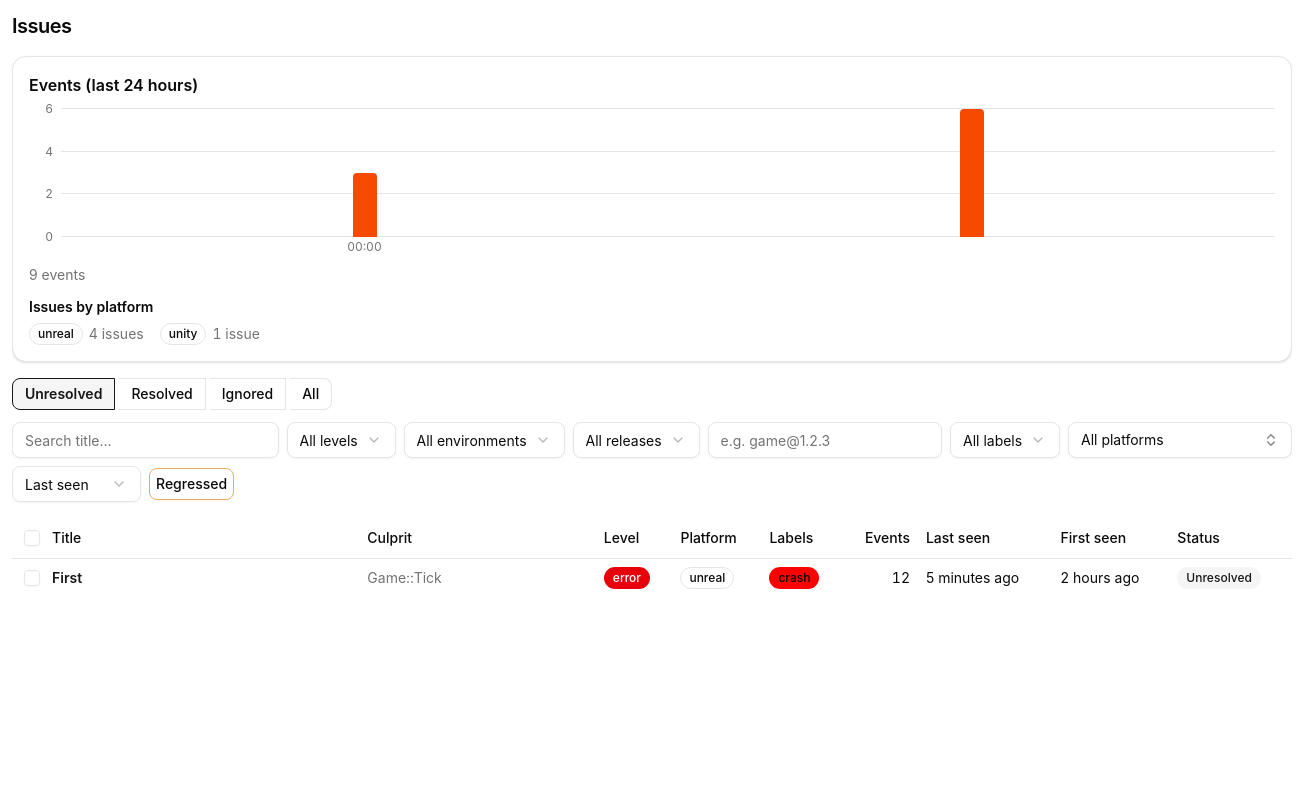
Test: IssuesPage › adds and removes labels through the bulk endpoint
The image size is (1304, 812).
Expected: the link "First" is shown, left=52, top=568, right=82, bottom=586
Click the checkbox named "Select issue 1": click(32, 578) left=24, top=570, right=40, bottom=586
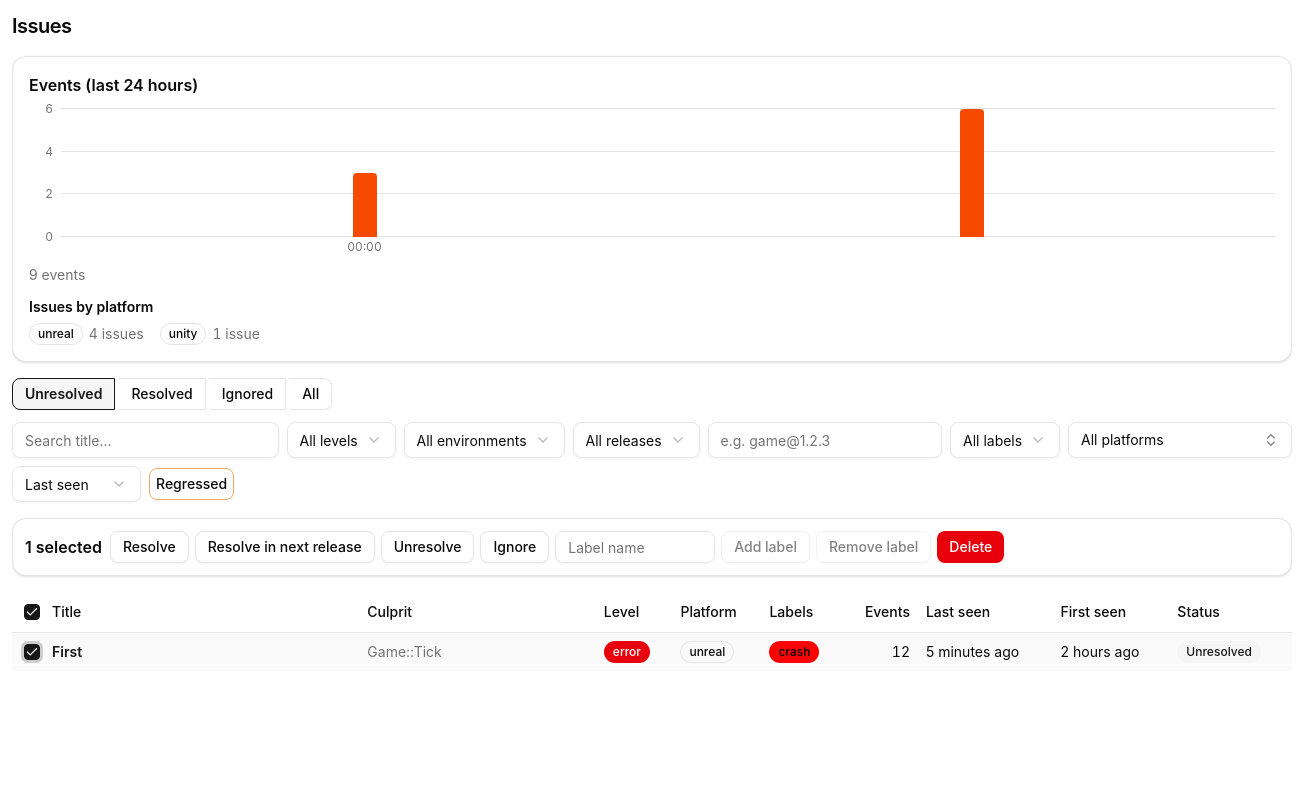
Expected: the button "Add label" is disabled, left=721, top=531, right=810, bottom=563
Expected: the button "Remove label" is disabled, left=816, top=531, right=931, bottom=563
In the field labelled "Label name": (635, 547) left=555, top=531, right=715, bottom=563, type "  crash  "
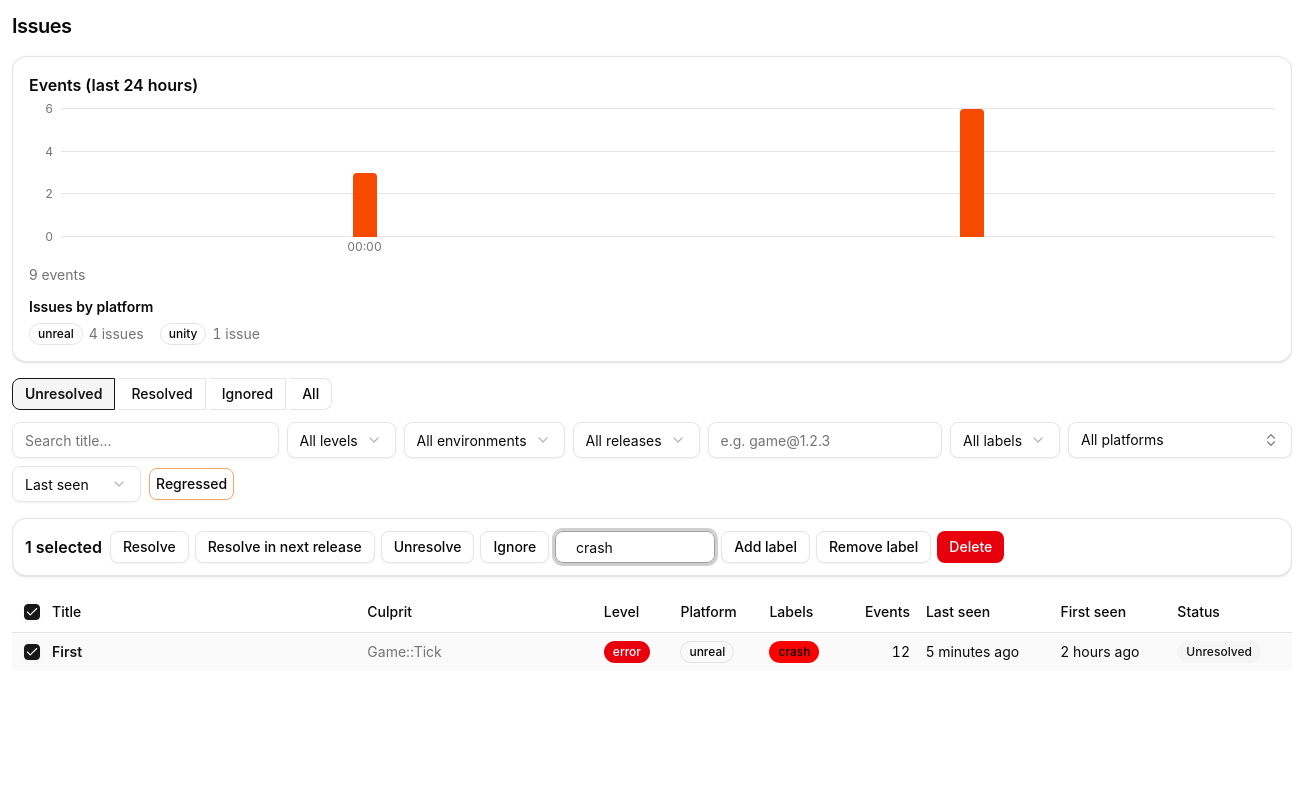
Expected: the button "Add label" is enabled
Click the button "Add label": click(766, 547) left=721, top=531, right=810, bottom=563
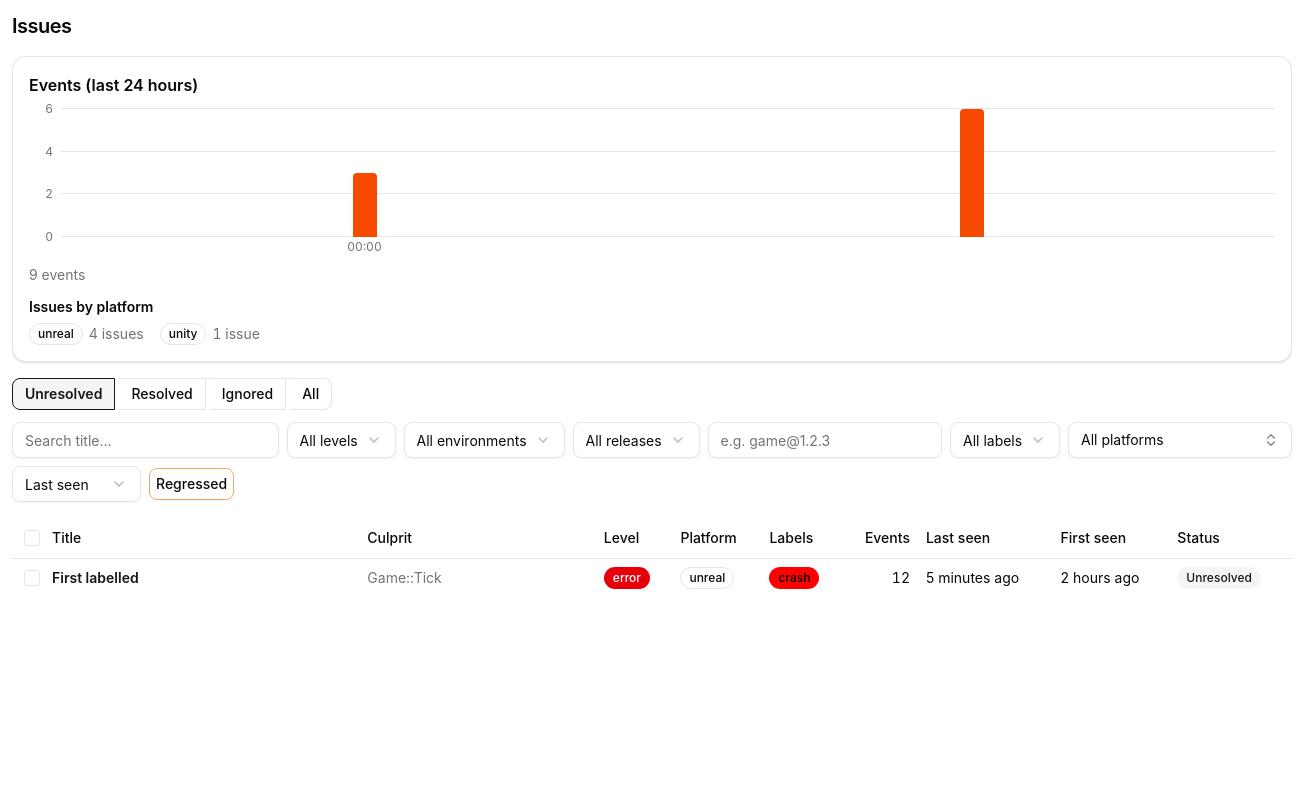
Expected: the link "First labelled" is shown, left=52, top=568, right=139, bottom=586
Expected: the text "1 selected" is gone
# The label input is cleared together with the selection.
Click the checkbox named "Select issue 1": click(32, 578) left=24, top=570, right=40, bottom=586
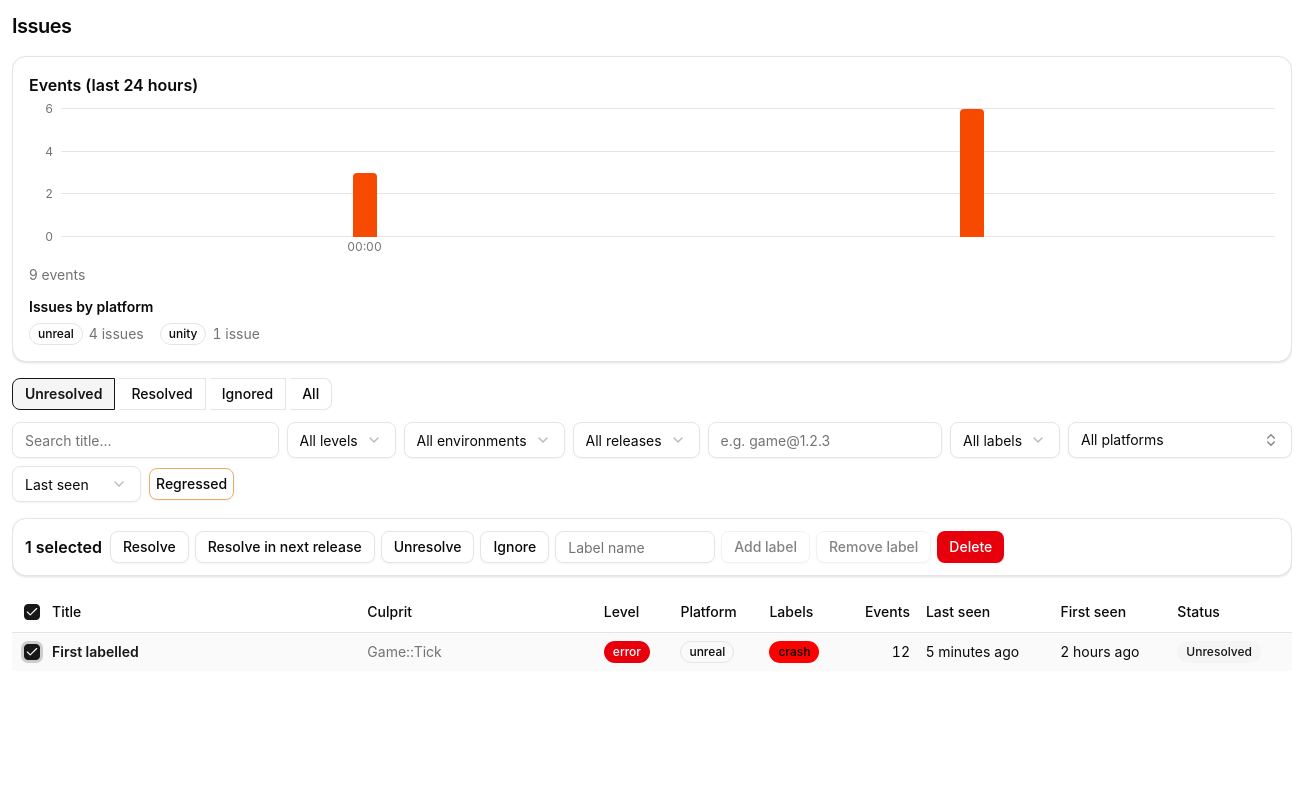
Expected: the field labelled "Label name" is empty
In the field labelled "Label name": (635, 547) left=555, top=531, right=715, bottom=563, type "crash"
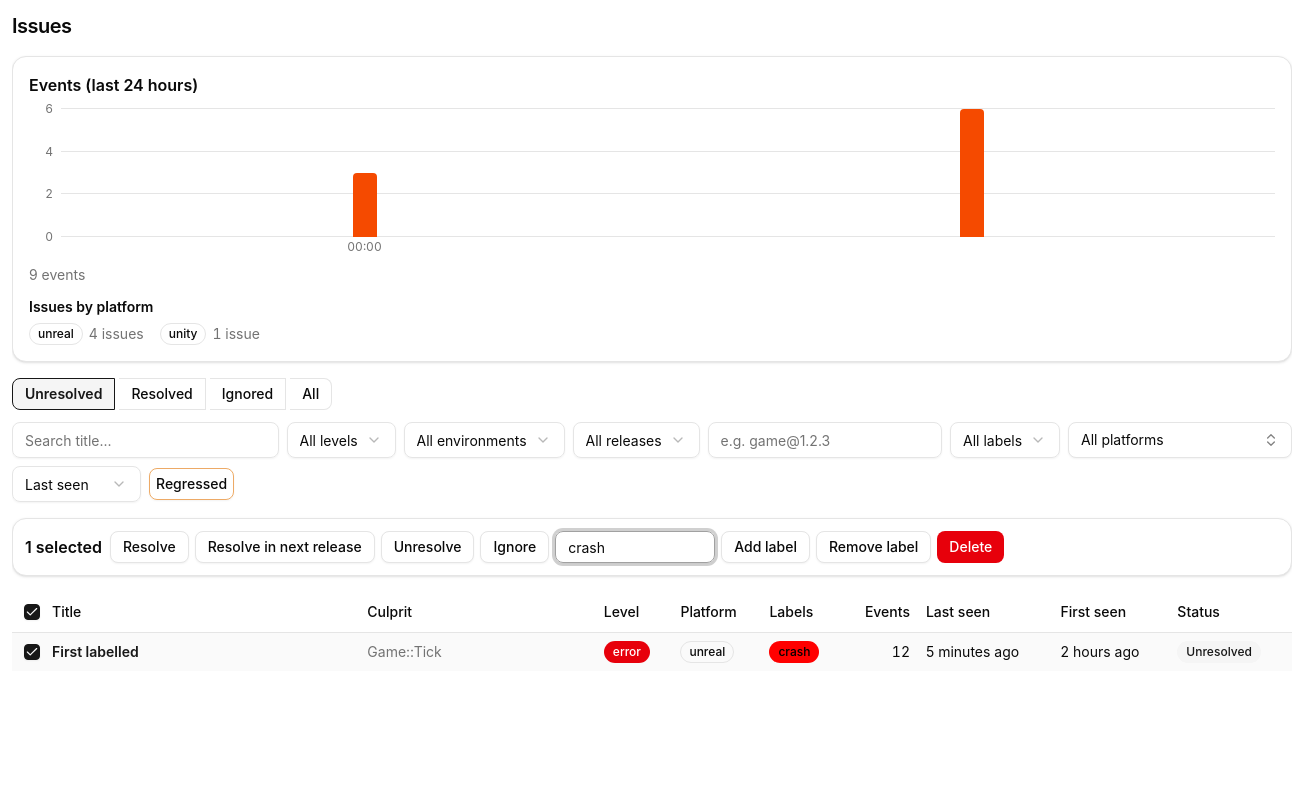
Click the button "Remove label": click(874, 547) left=816, top=531, right=931, bottom=563
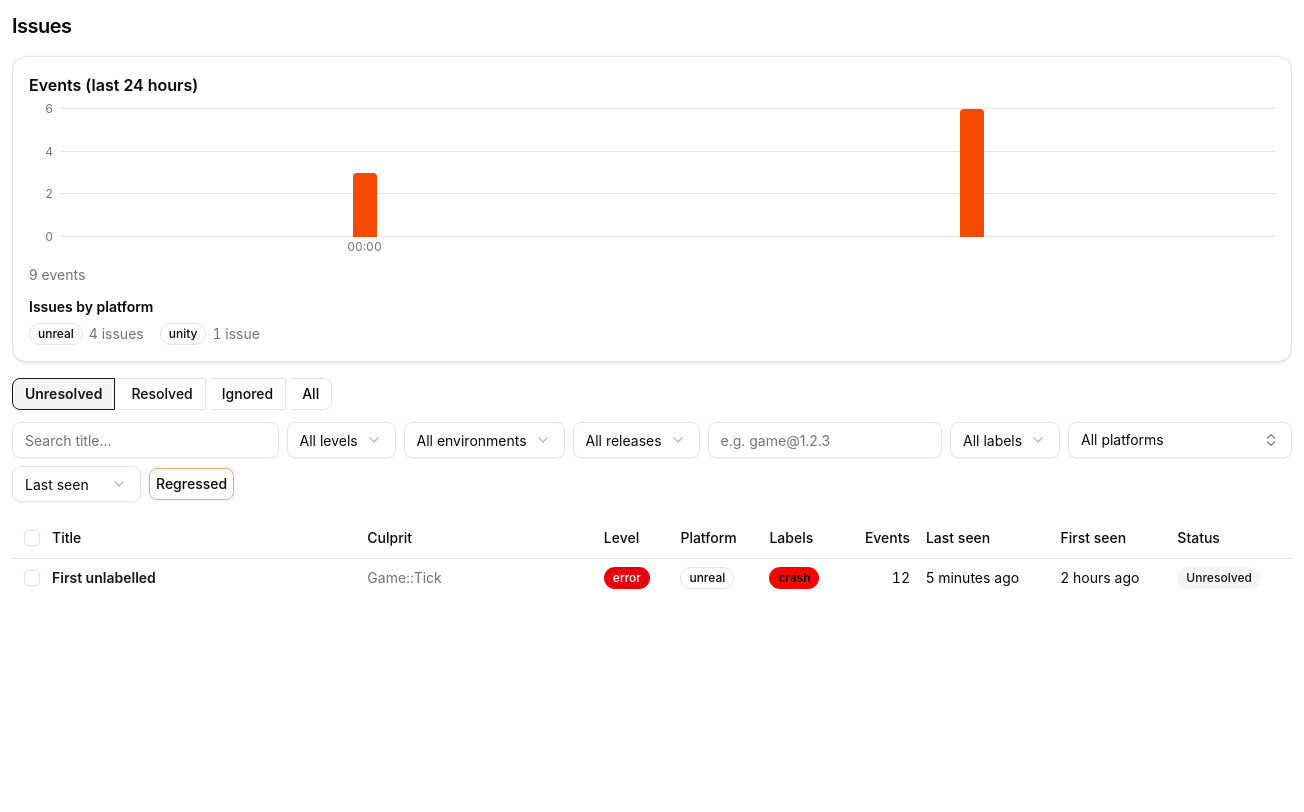
Expected: the link "First unlabelled" is shown, left=52, top=568, right=156, bottom=586
